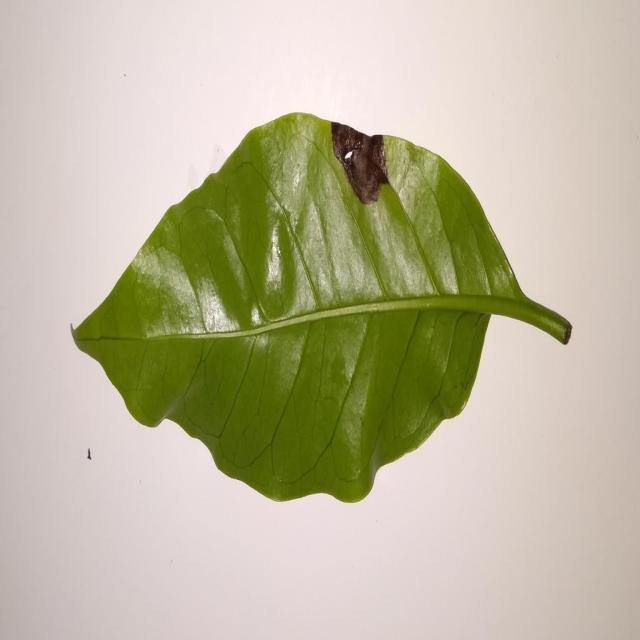Enfermedad-Antracnosis: (70, 112, 573, 506)
